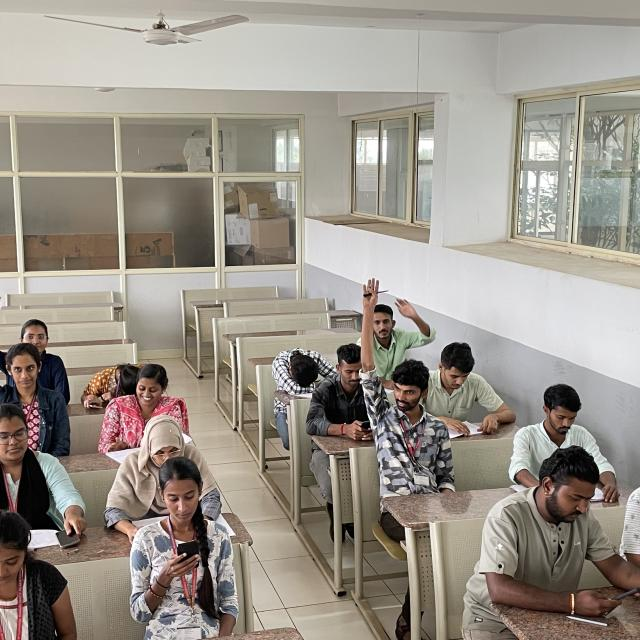Hand Rising: (359, 283, 435, 371)
Reading: (102, 418, 217, 537), (106, 361, 199, 458), (430, 336, 518, 433)
Sleeping: (78, 356, 157, 406), (270, 342, 332, 392)
Using Phone: (478, 453, 640, 620), (0, 398, 96, 551), (311, 345, 386, 442)
